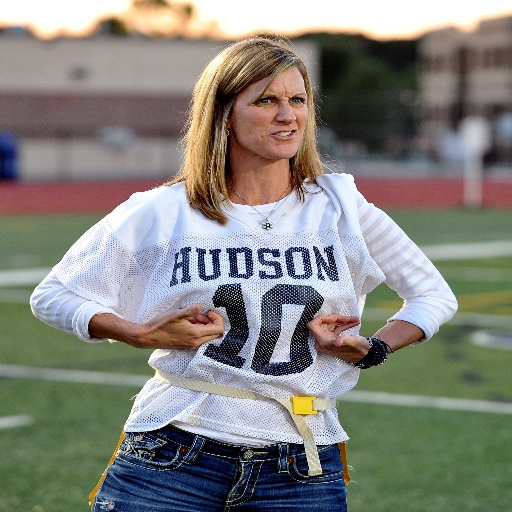hand: (103, 301, 245, 359), (301, 309, 374, 371)
